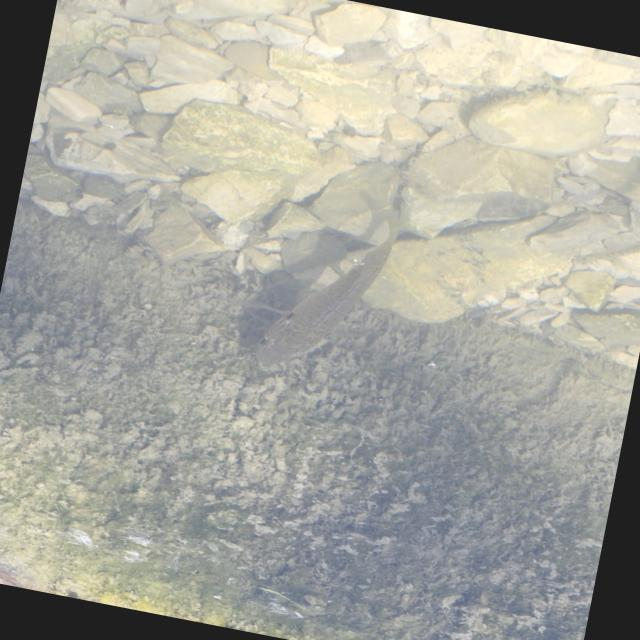Gunes Levregi: (240, 185, 406, 388)
